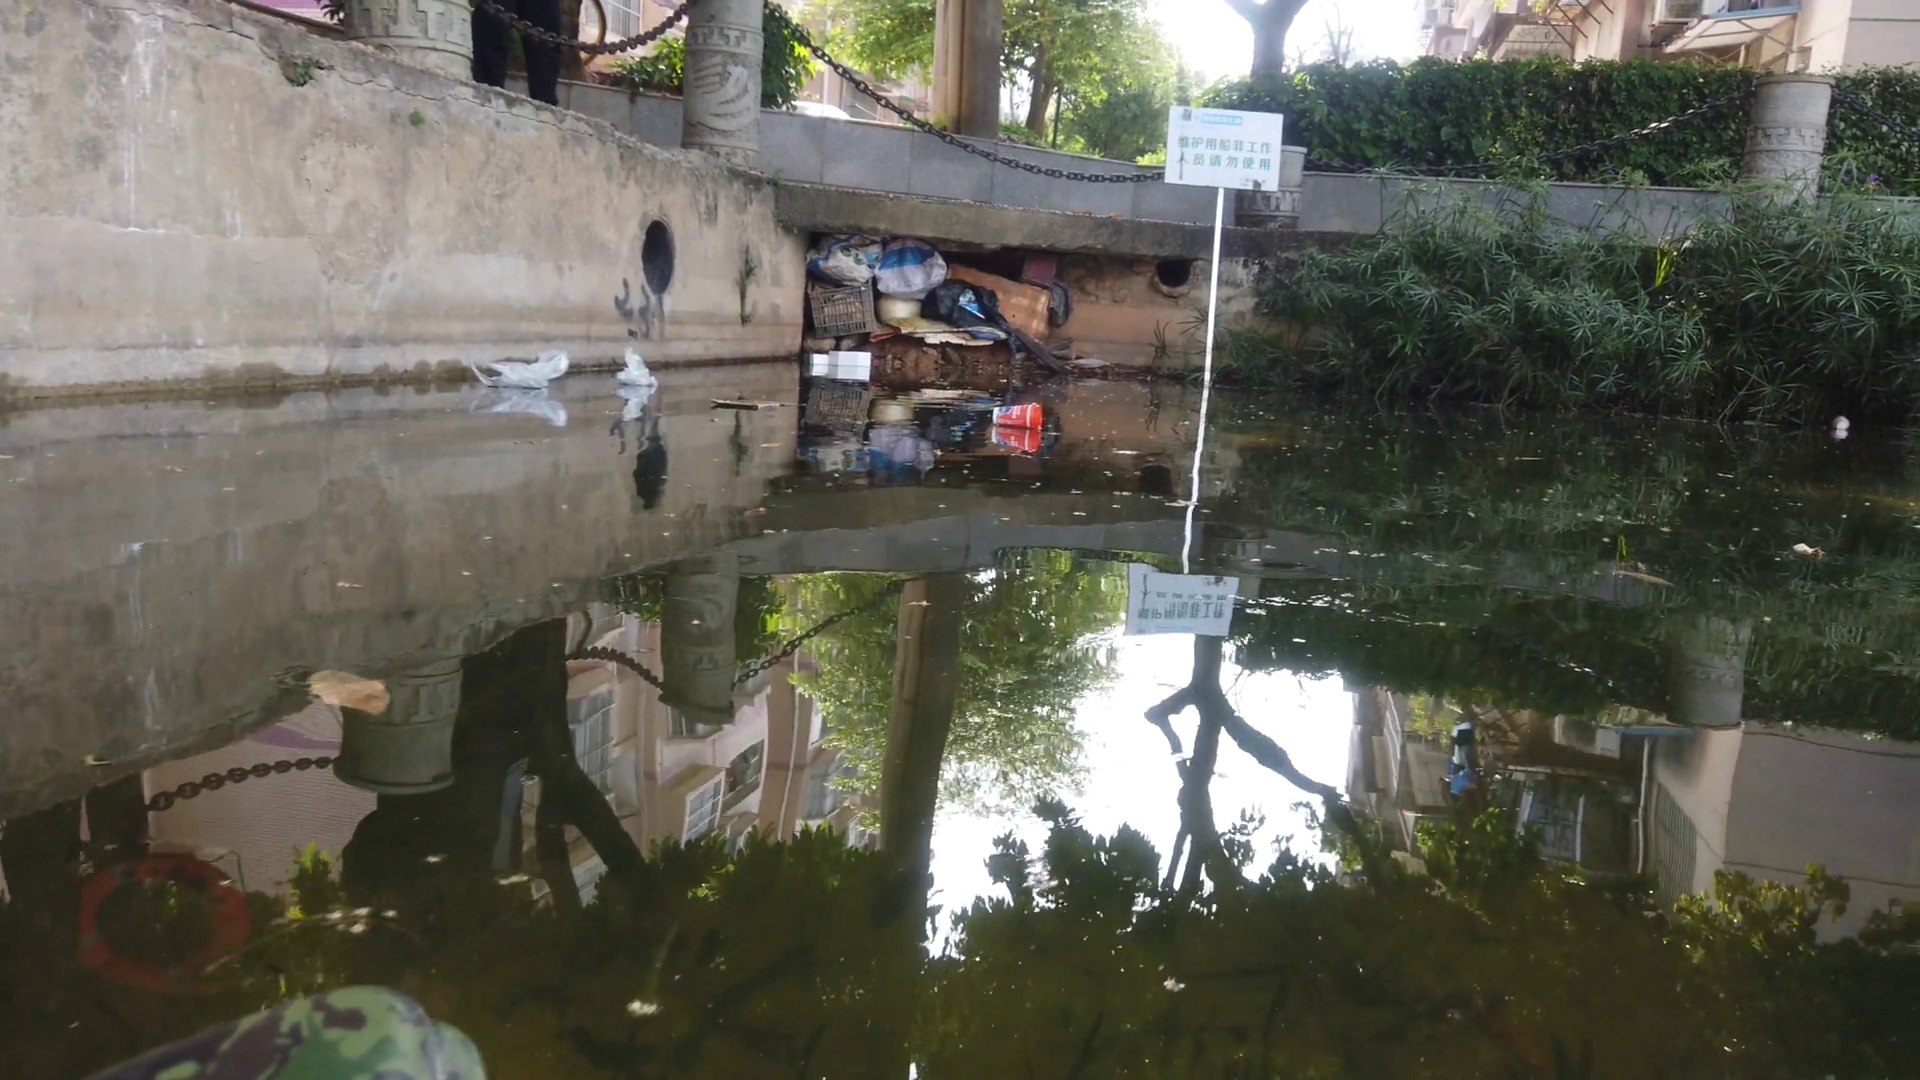bottle: (986, 398, 1054, 433), (1832, 415, 1851, 433)
carton: (824, 347, 870, 369), (808, 349, 825, 364)
paper: (712, 394, 791, 410)
plastic: (469, 348, 582, 390), (608, 344, 663, 385)
